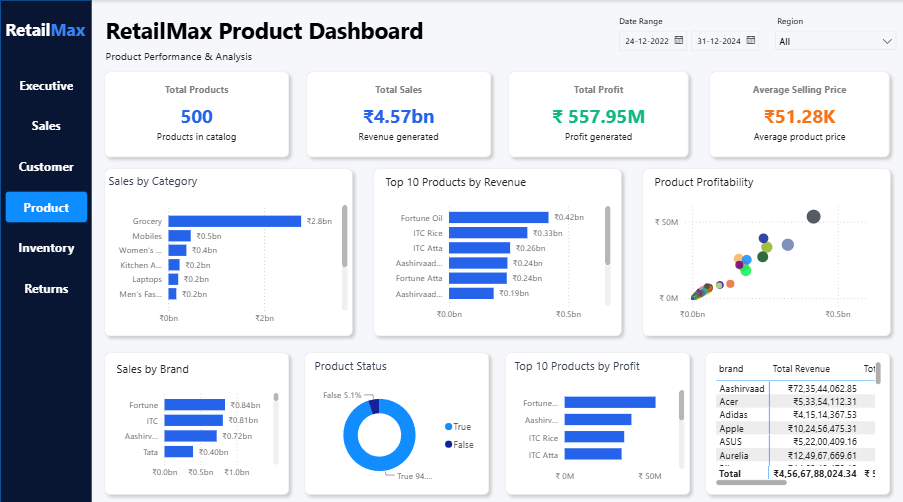

Layout of this report page (visuals, bound fields, positions):
{"tool":"powerbi","page":{"name":"Product Dashboard","canvas":[1280,720],"ordinal":3},"visuals":[{"type":"shape","box":[0,0,130,720],"z":0,"group":"g8"},{"type":"shape","box":[139,92,280,140],"z":0,"group":"g1"},{"type":"shape","box":[425,92,280,140],"z":0,"group":"g2"},{"type":"shape","box":[711,92,273.4,140],"z":0,"group":"g3"},{"type":"shape","box":[997,92,273.4,140],"z":0,"group":"g4"},{"type":"textbox","box":[160,176,144,64],"z":0},{"type":"shape","box":[139,230,370,256],"z":0,"group":"g5"},{"type":"shape","box":[520.5,230,370,256],"z":0,"group":"g6"},{"type":"shape","box":[902,230,370,256],"z":0,"group":"g7"},{"type":"cardVisual","title":"sales","fields":{"Data":["Measure.Total Products"]},"box":[159,127,240,70],"z":1000,"group":"g1"},{"type":"cardVisual","title":"sales","fields":{"Data":["Measure.Total Revenue"]},"box":[445,127,240,70],"z":1000,"group":"g2"},{"type":"cardVisual","title":"sales","fields":{"Data":["Measure.Total Profit"]},"box":[730.5,127,234.4,70],"z":1000,"group":"g3"},{"type":"cardVisual","title":"sales","fields":{"Data":["Measure.Average Selling Price"]},"box":[1016.5,127,234.4,70],"z":1000,"group":"g4"},{"type":"clusteredBarChart","title":"Sales by Category","fields":{"Category":["dim_category.category_name"],"Y":["Measure.Total Revenue"]},"box":[149.6,246,348.9,224],"z":1000,"group":"g5"},{"type":"shape","box":[423,491,280,220],"z":1000},{"type":"textbox","box":[159,112.8,240,35],"z":2000,"group":"g1"},{"type":"textbox","box":[445,112.8,240,35],"z":2000,"group":"g2"},{"type":"textbox","box":[730.5,112.8,234.4,35],"z":2000,"group":"g3"},{"type":"textbox","box":[1016.5,112.8,234.4,35],"z":2000,"group":"g4"},{"type":"shape","box":[707,491,280,220],"z":2000},{"type":"textbox","box":[159,179.5,240,35],"z":3000,"group":"g1"},{"type":"textbox","box":[445,179.5,240,35],"z":3000,"group":"g2"},{"type":"textbox","box":[730.5,179.5,234.4,35],"z":3000,"group":"g3"},{"type":"textbox","box":[1016.5,179.5,234.4,35],"z":3000,"group":"g4"},{"type":"shape","box":[991,491,280,220],"z":3000},{"type":"textbox","box":[144,16,544,64],"z":4000},{"type":"donutChart","title":"Product Status","fields":{"Y":["Measure.Total Products"],"Category":["dim_product.is_active"]},"box":[440.5,507.9,245,186.2],"z":5000},{"type":"clusteredBarChart","title":"Top 10 Products by Profit","fields":{"Category":["dim_product.product_name"],"Y":["Measure.Total Profit"]},"box":[724.9,507.9,250.9,186.2],"z":6000},{"type":"pivotTable","title":"Revenue by Customer Segment","fields":{"Rows":["dim_product.brand"],"Values":["Measure.Total Revenue","Measure.Total Profit","Measure.Total Orders"]},"box":[1008.5,507.9,245,186.2],"z":7000},{"type":"textbox","box":[144,64,288,80],"z":8000},{"type":"slicer","fields":{"Values":["dim_date.full_date"]},"box":[864,15,224,96],"z":9000},{"type":"slicer","fields":{"Values":["dim_region.region_name"]},"box":[1088,15,192,80],"z":10000},{"type":"group","id":"g1","title":"Group 2","box":[139,92,280,140],"z":11000},{"type":"group","id":"g2","title":"Group 2","box":[425,92,280,140],"z":12000},{"type":"group","id":"g3","title":"Group 2","box":[711,92,280,144],"z":13000},{"type":"group","id":"g4","title":"Group 2","box":[997,92,280,144],"z":14000},{"type":"group","id":"g5","title":"Group 1","box":[139,230,370,256],"z":15000},{"type":"group","id":"g6","title":"Group 3","box":[520.5,230,370,256],"z":16000},{"type":"group","id":"g7","title":"Group 4","box":[902,230,370,256],"z":17000},{"type":"group","id":"g8","title":"Group 2","box":[0,0,130,720],"z":18000},{"type":"actionButton","box":[5,96,120,48],"z":18000,"group":"g8"},{"type":"textbox","box":[0,20,128,48],"z":19000,"group":"g8"},{"type":"clusteredBarChart","title":"Top 10 Products by Revenue","fields":{"Y":["Measure.Total Revenue"],"Category":["dim_product.product_name"]},"box":[542,247,329,216],"z":19000},{"type":"actionButton","box":[5,153.6,120,48],"z":20000,"group":"g8"},{"type":"scatterChart","title":"Product Profitability","fields":{"X":["Measure.Total Revenue"],"Y":["Measure.Total Profit"],"Category":["dim_product.product_name"],"Size":["Measure.Total Orders"]},"box":[923,247,329,216],"z":20000},{"type":"actionButton","box":[5,211.2,120,48],"z":21000,"group":"g8"},{"type":"shape","box":[139,491,280,220],"z":21000},{"type":"actionButton","box":[5,268.8,120,48],"z":22000,"group":"g8"},{"type":"clusteredBarChart","title":"Sales by Brand","fields":{"Category":["dim_product.brand"],"Y":["Measure.Total Revenue"]},"box":[160,512,240,176],"z":22000},{"type":"actionButton","box":[5,326.4,120,48],"z":23000,"group":"g8"},{"type":"actionButton","box":[5,384,120,48],"z":24000,"group":"g8"}]}

Visuals, with their boxes on the page's 1280x720 design canvas (x1, y1, x2, y2). These are canvas units, not pixel positions in the 903x502 screenshot, which may show the page scaled, cropped or inside an application window:
shape: box=[0, 0, 130, 720]
shape: box=[139, 92, 419, 232]
shape: box=[425, 92, 705, 232]
shape: box=[711, 92, 984, 232]
shape: box=[997, 92, 1270, 232]
textbox: box=[160, 176, 304, 240]
shape: box=[139, 230, 509, 486]
shape: box=[520, 230, 890, 486]
shape: box=[902, 230, 1272, 486]
"sales" cardVisual: box=[159, 127, 399, 197]
"sales" cardVisual: box=[445, 127, 685, 197]
"sales" cardVisual: box=[730, 127, 965, 197]
"sales" cardVisual: box=[1016, 127, 1251, 197]
"Sales by Category" clusteredBarChart: box=[150, 246, 498, 470]
shape: box=[423, 491, 703, 711]
textbox: box=[159, 113, 399, 148]
textbox: box=[445, 113, 685, 148]
textbox: box=[730, 113, 965, 148]
textbox: box=[1016, 113, 1251, 148]
shape: box=[707, 491, 987, 711]
textbox: box=[159, 180, 399, 214]
textbox: box=[445, 180, 685, 214]
textbox: box=[730, 180, 965, 214]
textbox: box=[1016, 180, 1251, 214]
shape: box=[991, 491, 1271, 711]
textbox: box=[144, 16, 688, 80]
"Product Status" donutChart: box=[440, 508, 686, 694]
"Top 10 Products by Profit" clusteredBarChart: box=[725, 508, 976, 694]
"Revenue by Customer Segment" pivotTable: box=[1008, 508, 1254, 694]
textbox: box=[144, 64, 432, 144]
slicer - dim_date.full_date: box=[864, 15, 1088, 111]
slicer - dim_region.region_name: box=[1088, 15, 1280, 95]
"Group 2" group: box=[139, 92, 419, 232]
"Group 2" group: box=[425, 92, 705, 232]
"Group 2" group: box=[711, 92, 991, 236]
"Group 2" group: box=[997, 92, 1277, 236]
"Group 1" group: box=[139, 230, 509, 486]
"Group 3" group: box=[520, 230, 890, 486]
"Group 4" group: box=[902, 230, 1272, 486]
"Group 2" group: box=[0, 0, 130, 720]
actionButton: box=[5, 96, 125, 144]
textbox: box=[0, 20, 128, 68]
"Top 10 Products by Revenue" clusteredBarChart: box=[542, 247, 871, 463]
actionButton: box=[5, 154, 125, 202]
"Product Profitability" scatterChart: box=[923, 247, 1252, 463]
actionButton: box=[5, 211, 125, 259]
shape: box=[139, 491, 419, 711]
actionButton: box=[5, 269, 125, 317]
"Sales by Brand" clusteredBarChart: box=[160, 512, 400, 688]
actionButton: box=[5, 326, 125, 374]
actionButton: box=[5, 384, 125, 432]
